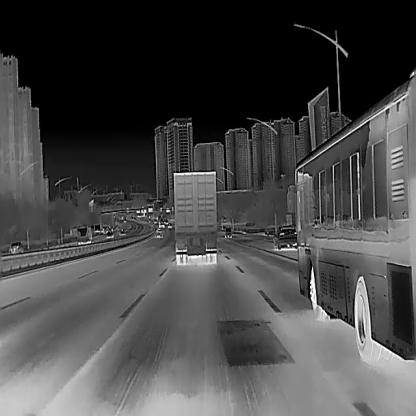bus: (286, 70, 415, 362), (74, 226, 92, 244)
car: (272, 223, 297, 249), (6, 240, 23, 252), (224, 226, 232, 237), (105, 229, 114, 237), (155, 228, 163, 237), (118, 227, 125, 234), (166, 222, 172, 228)
truck: (174, 170, 216, 263)
